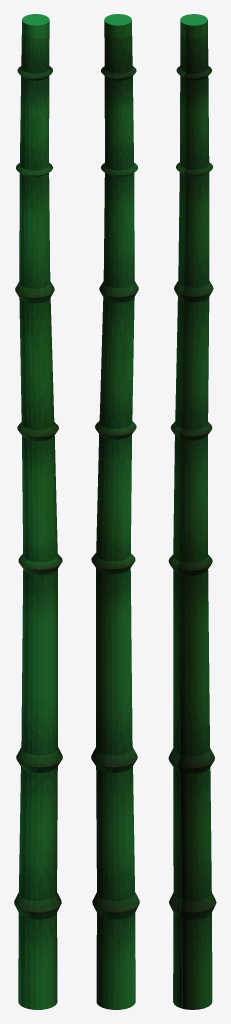
The model's file is Bamboo_6_15_17.fbx.
3 views of the same model, side by side, from view 1: azimuth 30°, elevation 25°; view 2: azimuth 210°, elevation 25°; view 3: azimuth 270°, elevation 25° (orthographic).
Visible parts, largest first — view 1: pCylinder1; view 2: pCylinder1; view 3: pCylinder1.
Boxes of the visible parts, <box> form: pCylinder1: <box>14,14,62,1009</box>; pCylinder1: <box>91,14,139,1009</box>; pCylinder1: <box>168,14,216,1009</box>.
Size of the model in its own units: 1.55 by 34.48 by 1.54.
